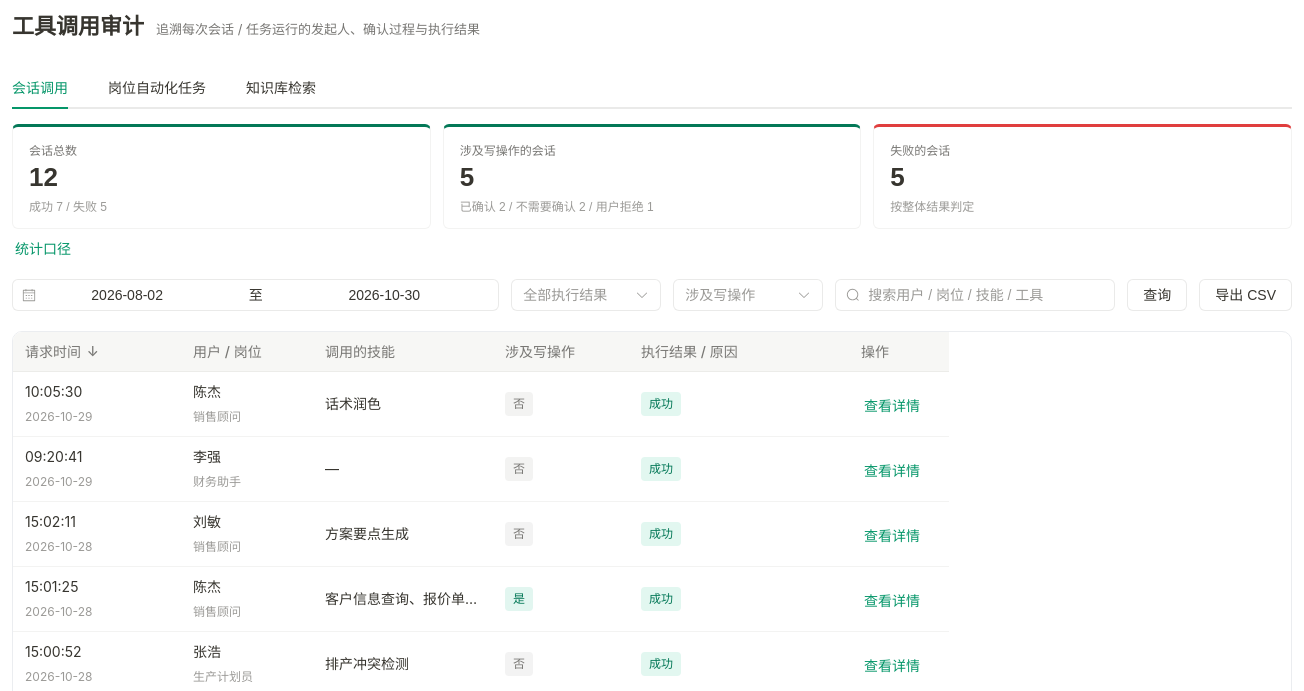
Test: 统计卡片（§二） › 【统计口径】默认收起，点开展示说明，再点收起
This screenshot has width=1304, height=691.
Click the button "统计口径": (43,249) [12,239,74,259]
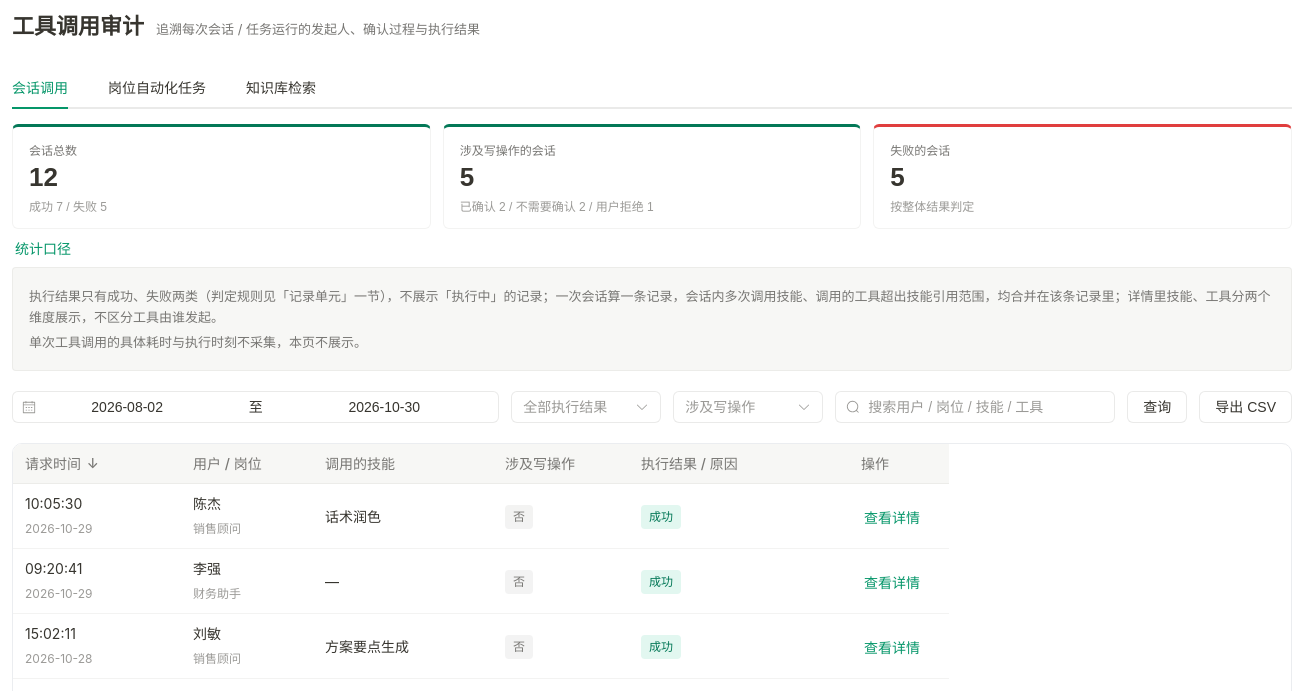
Expected: the element with class "help-body" shows "一次会话算一条记录，会话内多次调用技能、调用的工具超出技能引用范围，均合并在该条记录里；详情里技能、工具分两个维度展示，不区分工具由谁发起", [29,288,1270,325]
Click the button "统计口径": (43,249) [12,239,74,259]
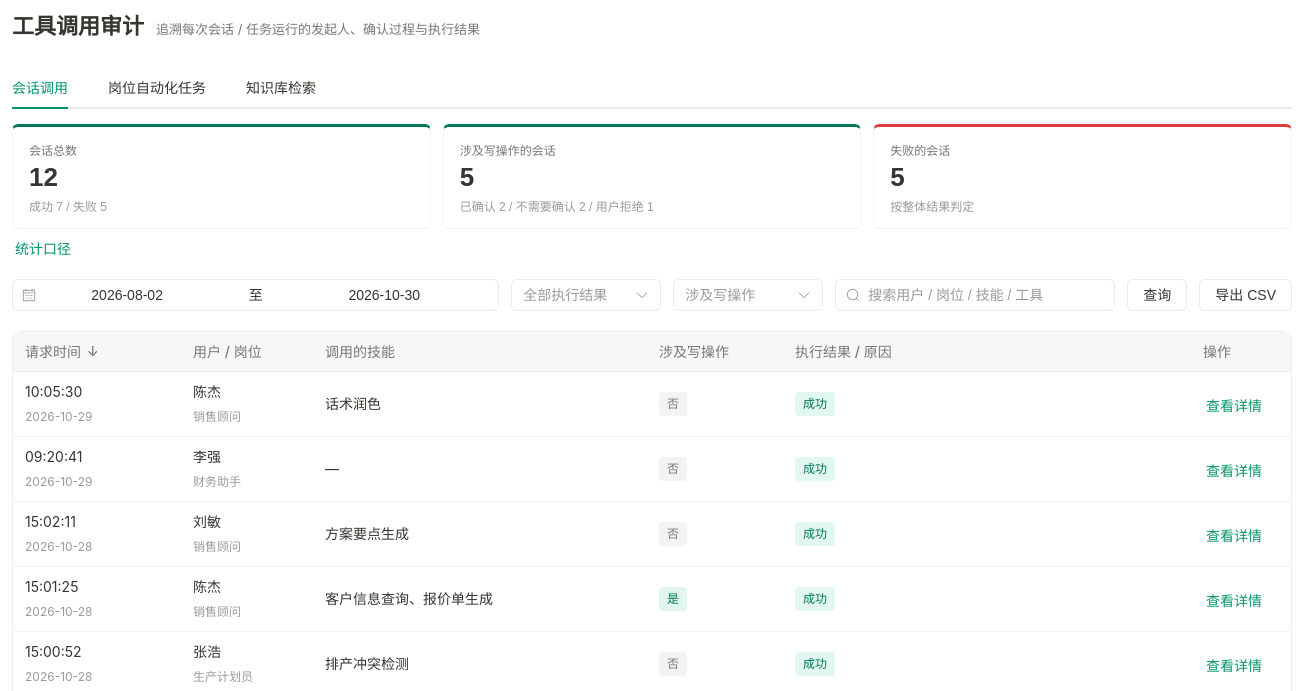
Expected: the element with class "help-body" is gone
